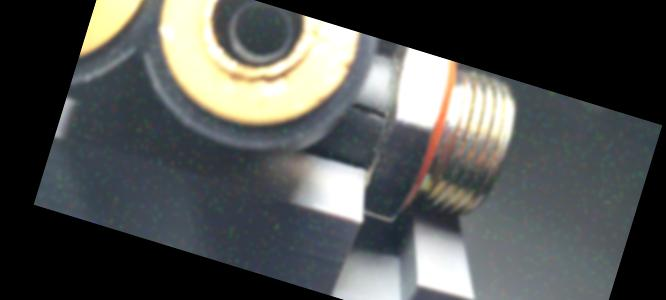craze: (347, 97, 388, 126)
